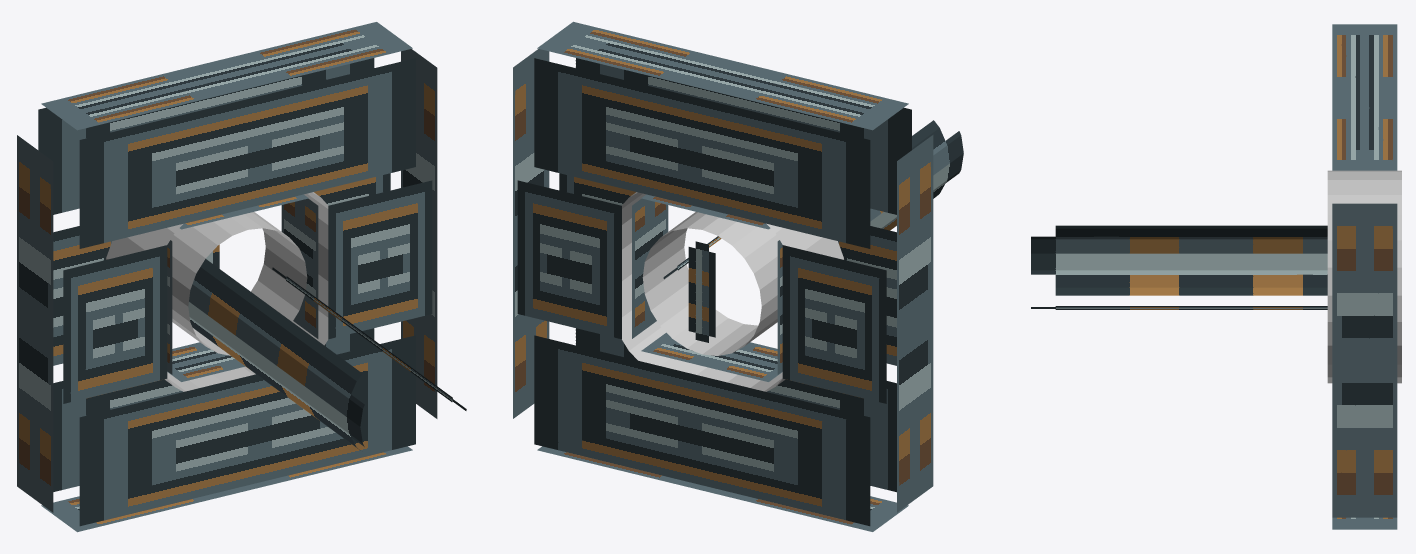
The model's file is output_shaft_front.obj.
3 views of the same model, side by side, from view 1: azimuth 30°, elevation 25°; view 2: azimuth 150°, elevation 25°; view 3: azimuth 270°, elevation 25° (orthographic). The views are drawn at different scales.
Parts seen in each view (by area): view 1: output_shaft_front; view 2: output_shaft_front; view 3: output_shaft_front.
Part boxes in pixels (left/top/right/bottom): output_shaft_front: left=17, top=22, right=466, bottom=532; output_shaft_front: left=513, top=21, right=963, bottom=531; output_shaft_front: left=1031, top=24, right=1401, bottom=529.
Bounding box in the file's own units: 1 × 1 × 1.
